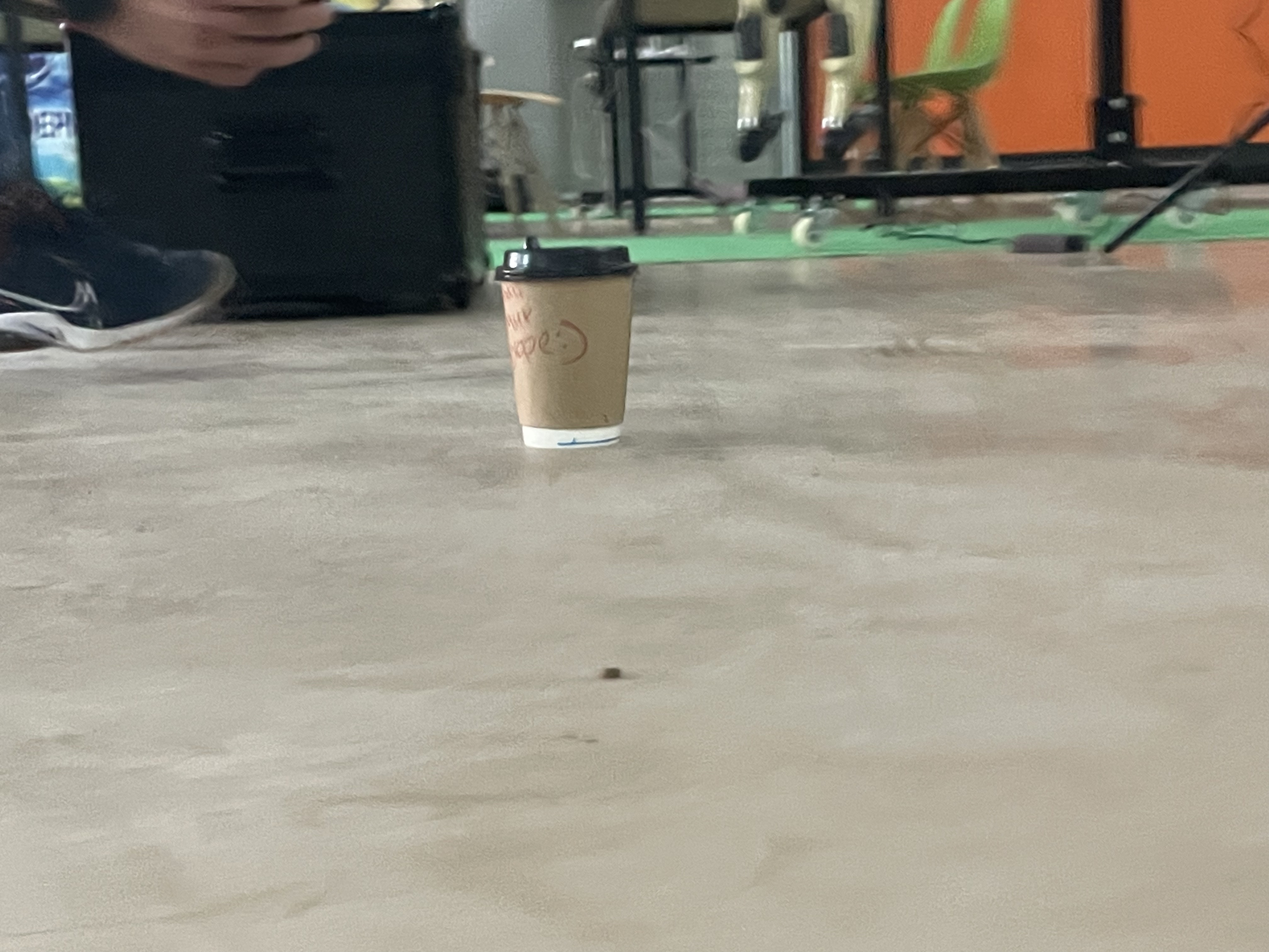cup: (495, 236, 637, 449)
